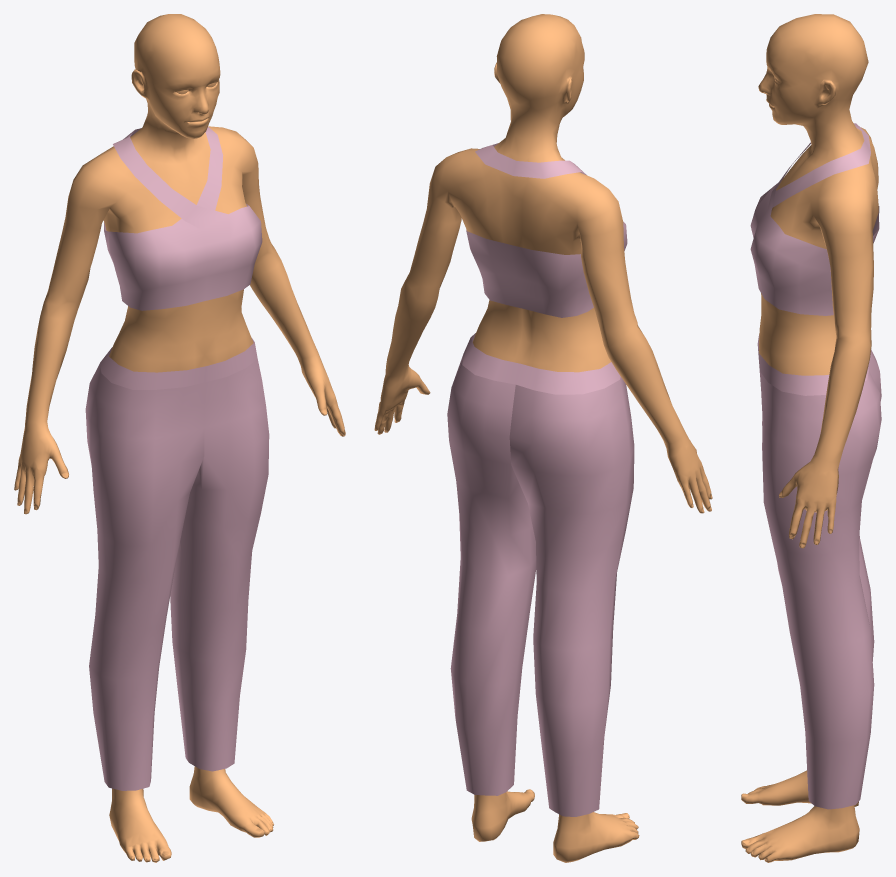
File: Demo_woman.glb
The picture shows the model from 3 angles, left to right: view 1: azimuth 30°, elevation 25°; view 2: azimuth 150°, elevation 25°; view 3: azimuth 270°, elevation 25°; orthographic projection.
Visible parts, largest first — view 1: formal_pant, Woman.001, blouse_03; view 2: formal_pant, Woman.001, blouse_03; view 3: Woman.001, formal_pant, blouse_03.
Boxes of the visible parts, <box> form: formal_pant: <box>85,338,269,790</box>; Woman.001: <box>14,14,345,862</box>; blouse_03: <box>104,127,262,310</box>; formal_pant: <box>447,333,634,816</box>; Woman.001: <box>374,14,712,862</box>; blouse_03: <box>466,143,627,317</box>; Woman.001: <box>741,14,878,862</box>; formal_pant: <box>757,334,881,809</box>; blouse_03: <box>750,123,879,315</box>.
Bounding box in the file's own units: 0.6167 × 1.48 × 0.2318.
